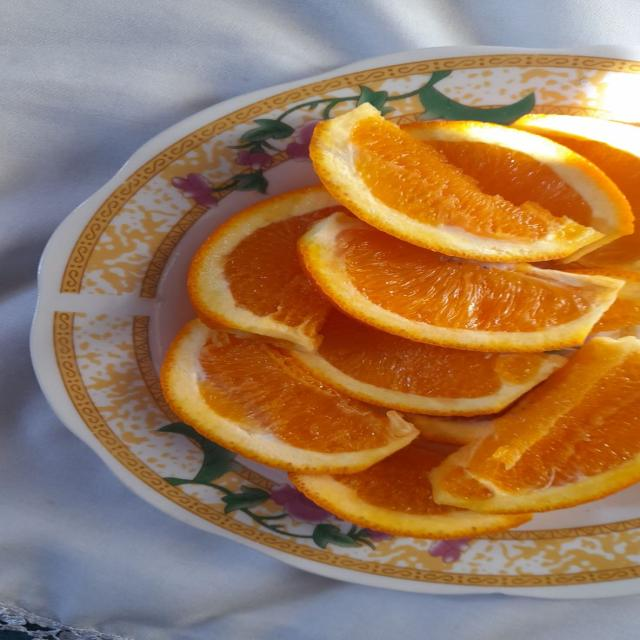orange: (311, 104, 603, 262), (299, 213, 623, 352), (161, 320, 417, 473), (431, 337, 639, 512), (403, 122, 633, 261), (291, 310, 566, 415), (188, 187, 344, 349), (291, 445, 530, 539), (514, 115, 639, 216), (567, 269, 639, 333), (406, 414, 494, 445)
